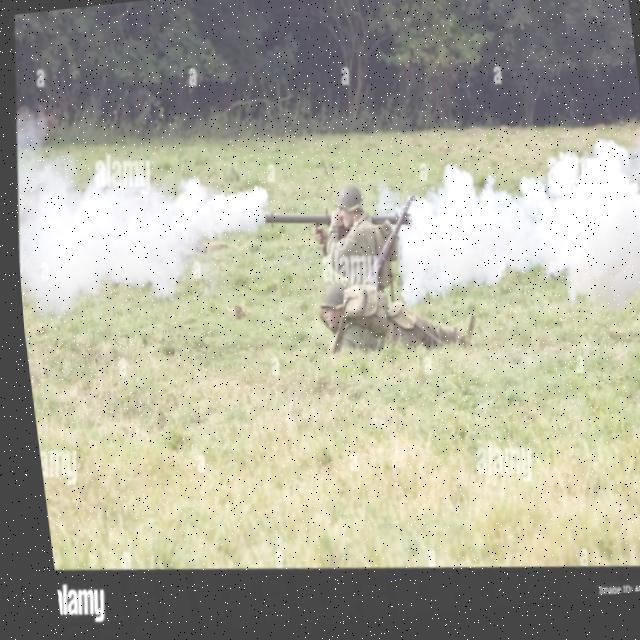rocket: (258, 188, 410, 253)
